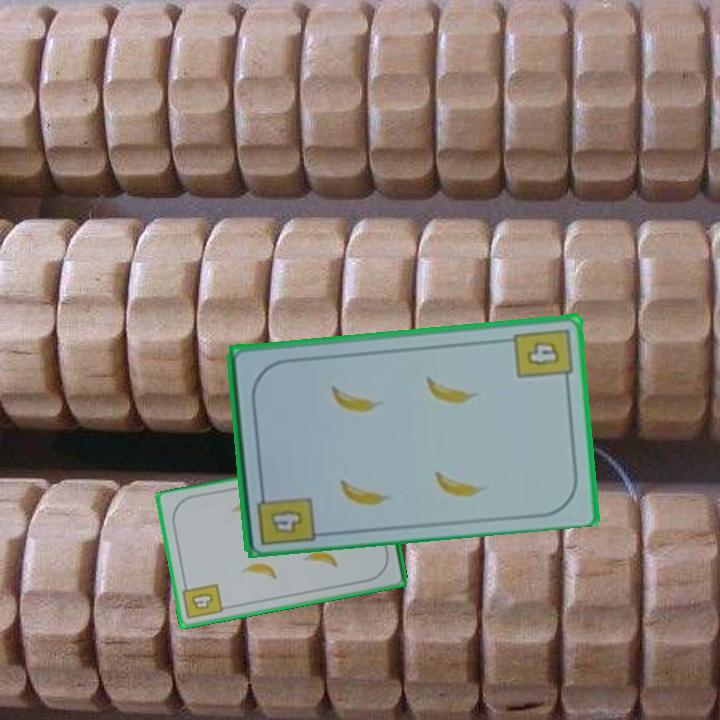4b: (253, 482, 317, 548), (510, 325, 575, 387), (179, 579, 226, 622)
